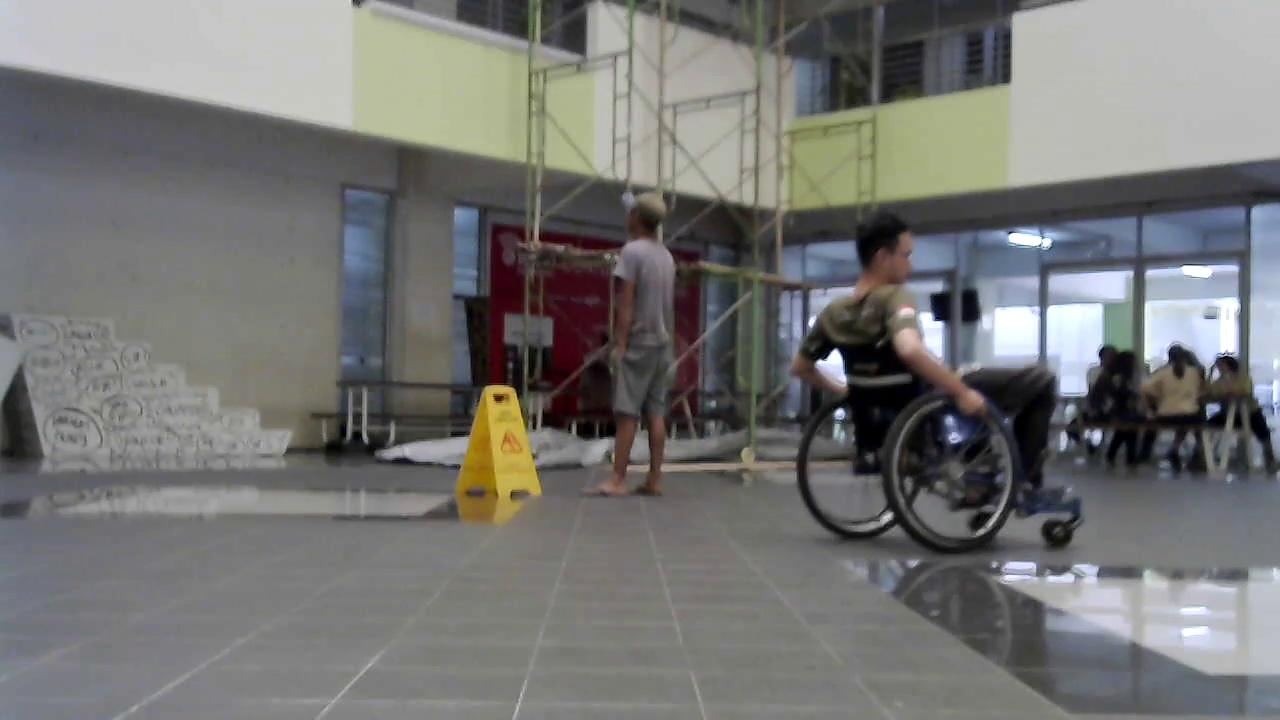person: (786, 209, 1022, 506), (582, 196, 681, 497), (1203, 350, 1277, 479), (1141, 343, 1207, 479)
wheelchair: (785, 326, 1080, 563)
